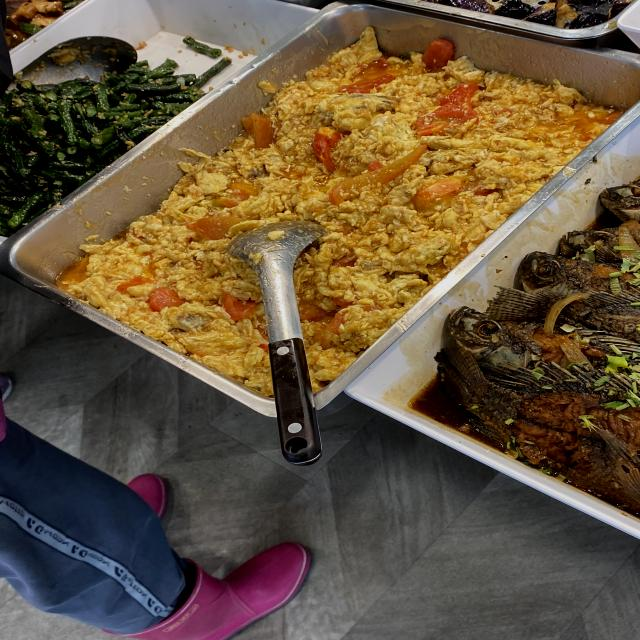Scramble Egg with Tomatoes: (278, 83, 503, 211)
